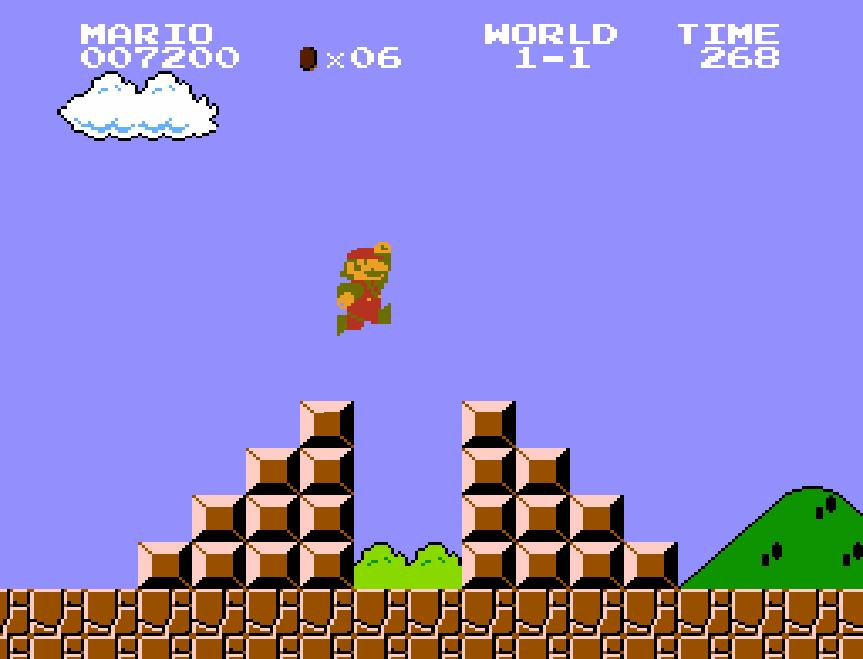big_mario: (335, 239, 393, 337)
